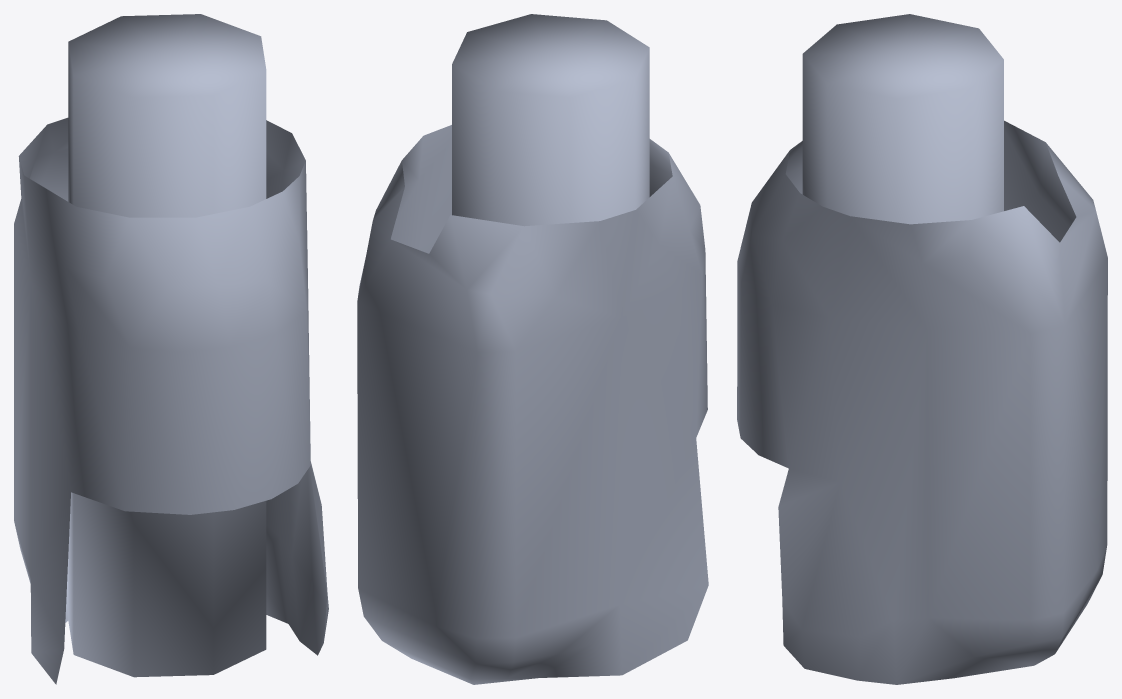
File: l_arm.dae
3 views of the same model, side by side, from view 1: azimuth 30°, elevation 25°; view 2: azimuth 150°, elevation 25°; view 3: azimuth 270°, elevation 25° (orthographic). The views are drawn at different scales.
Visible parts, largest first — view 1: l_arm_mesh; view 2: l_arm_mesh; view 3: l_arm_mesh.
Boxes of the visible parts, box(x1,y1,x2,y2) form: l_arm_mesh: box(14, 14, 328, 684); l_arm_mesh: box(357, 14, 708, 684); l_arm_mesh: box(737, 14, 1107, 684).
Size of the model in its own units: 0.0751 by 0.0938 by 0.16.
